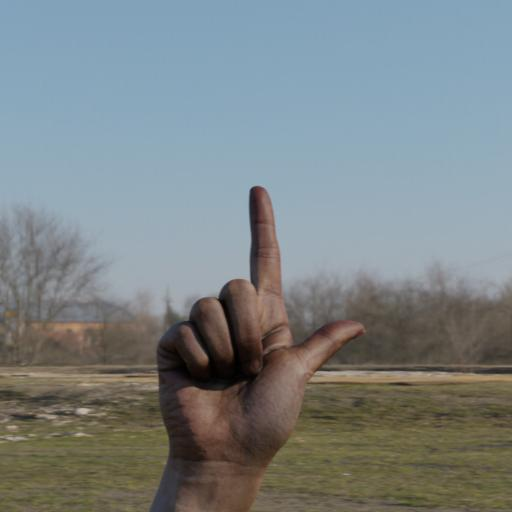L: (138, 150, 374, 512)
